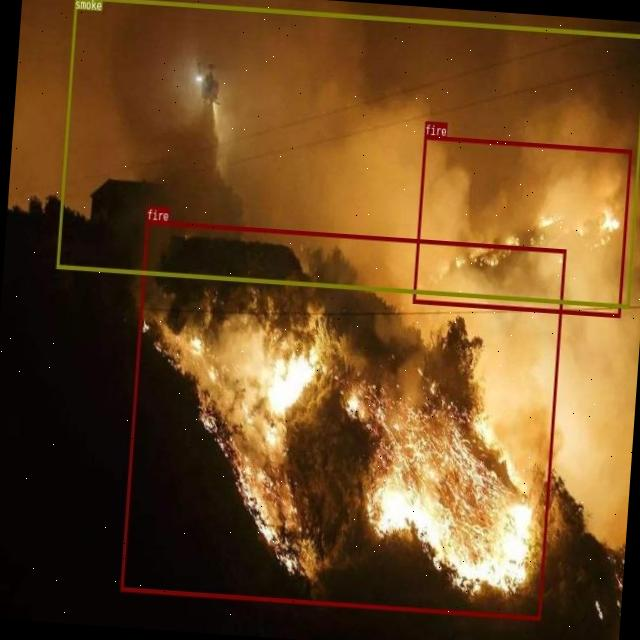fire: (120, 219, 564, 619), (412, 135, 632, 317)
smoke: (56, 0, 640, 307)
